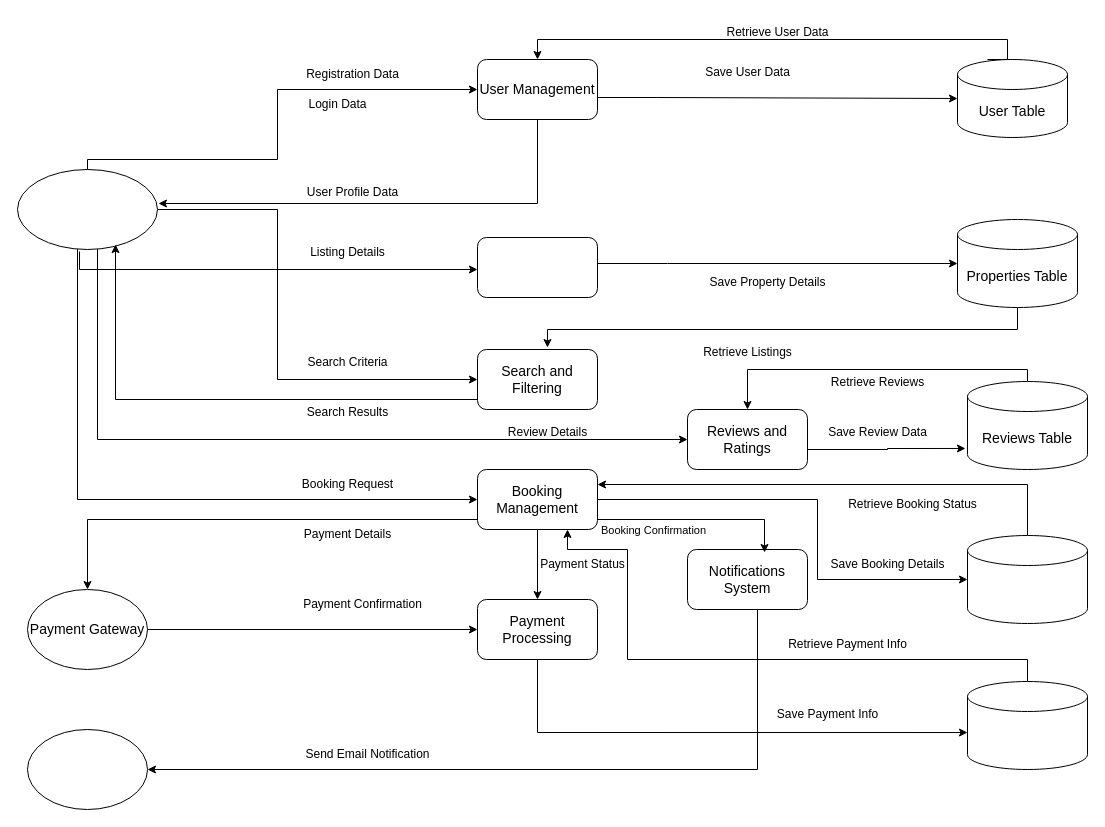
The diagram is 1105 pixels wide and 827 high, and some of its shapes have lost their labels. Here are the shapes that lost their labels. From the top down, the centre of each, then its label:
At (x=87, y=209): "User (Guest/Host/Admin)".
At (x=537, y=267): "Property Listings".
At (x=1027, y=579): "Bookings Table".
At (x=1027, y=725): "Payments Table".
At (x=87, y=769): "Email Service".
